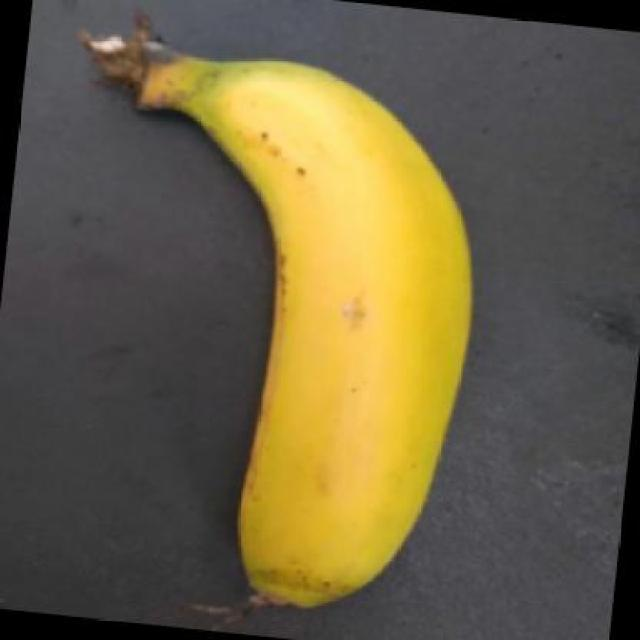Ripe: (79, 9, 494, 622)
